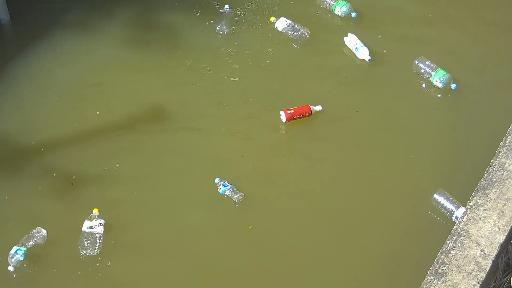plastic: (410, 51, 475, 98), (80, 206, 132, 264), (262, 13, 330, 47), (7, 220, 50, 271), (419, 183, 466, 222), (342, 32, 387, 63), (211, 172, 254, 201), (204, 1, 240, 35), (272, 101, 338, 116), (314, 0, 366, 16)
